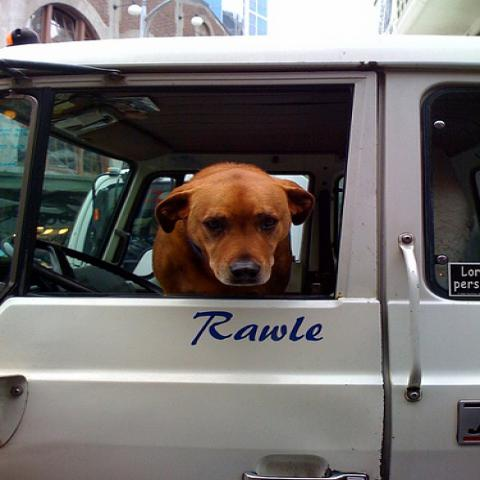truck: (5, 34, 479, 479)
